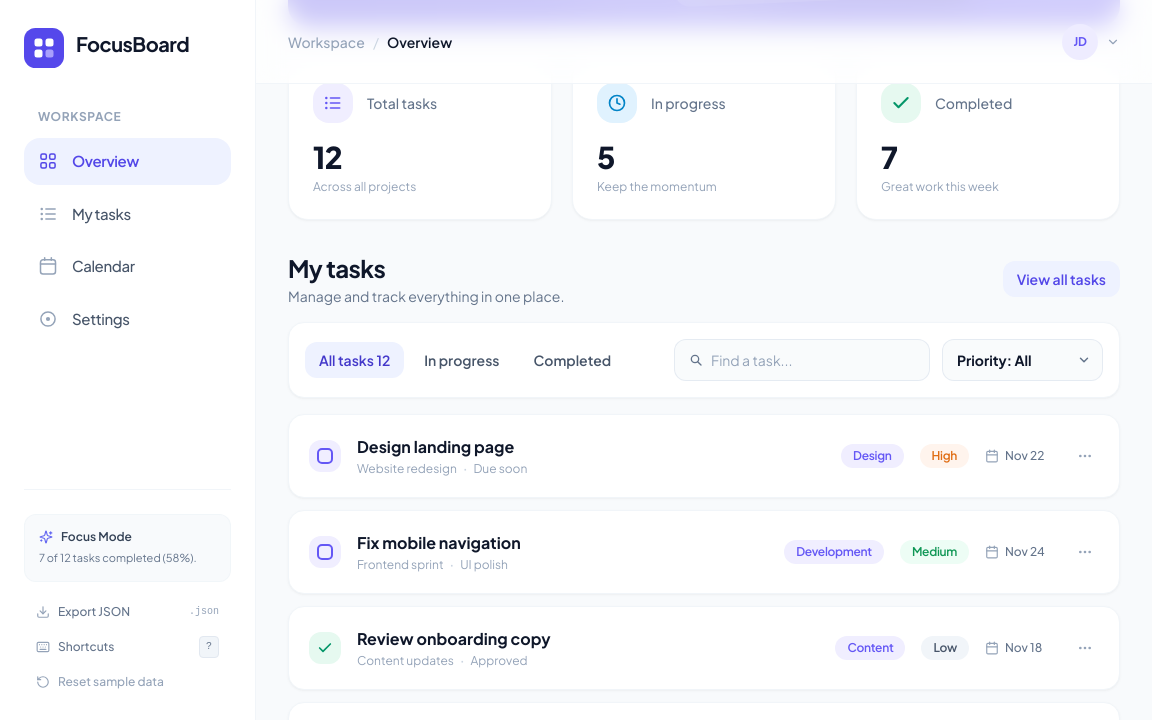
Scenario: FocusBoard Full Application End-to-End Interactions › filters task list by search query
This screenshot has width=1152, height=720.
(page scrolled)
Type "Fix mobile navigation" into the field with placeholder "Find a task..." at (802, 360), box [674,339,930,381]
(page scrolled)
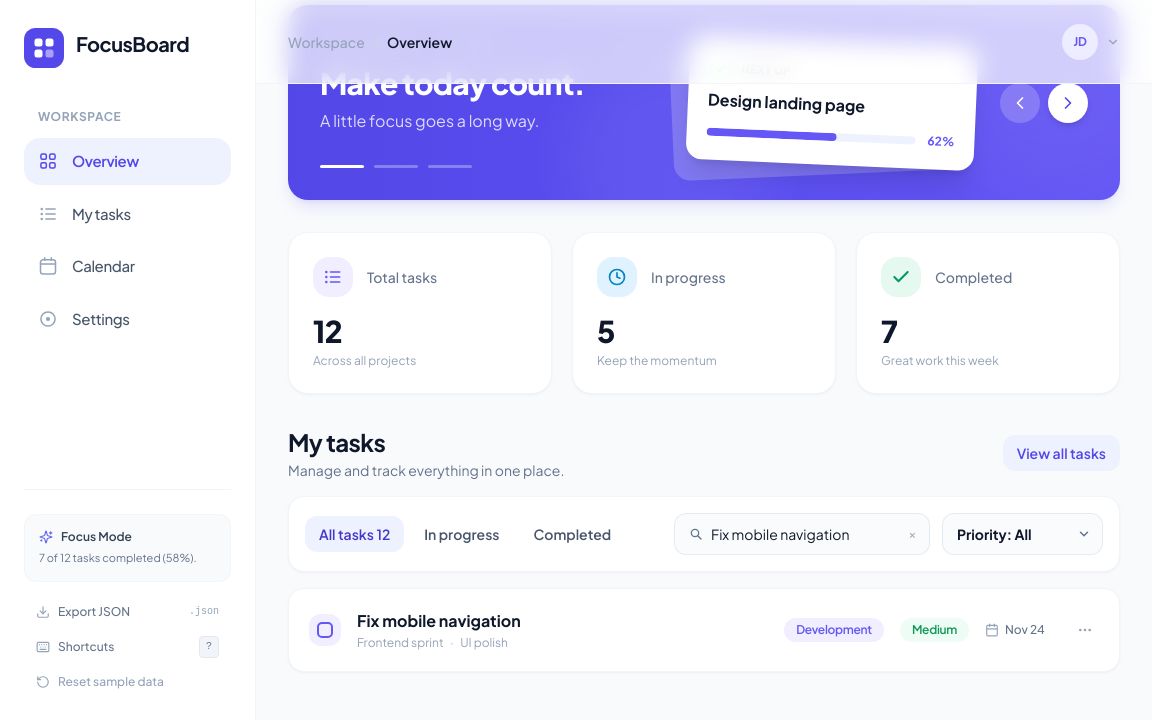
Expected: the heading "Fix mobile navigation" is shown, [357,610,521,631]
Expected: the heading "Review onboarding copy" is gone
